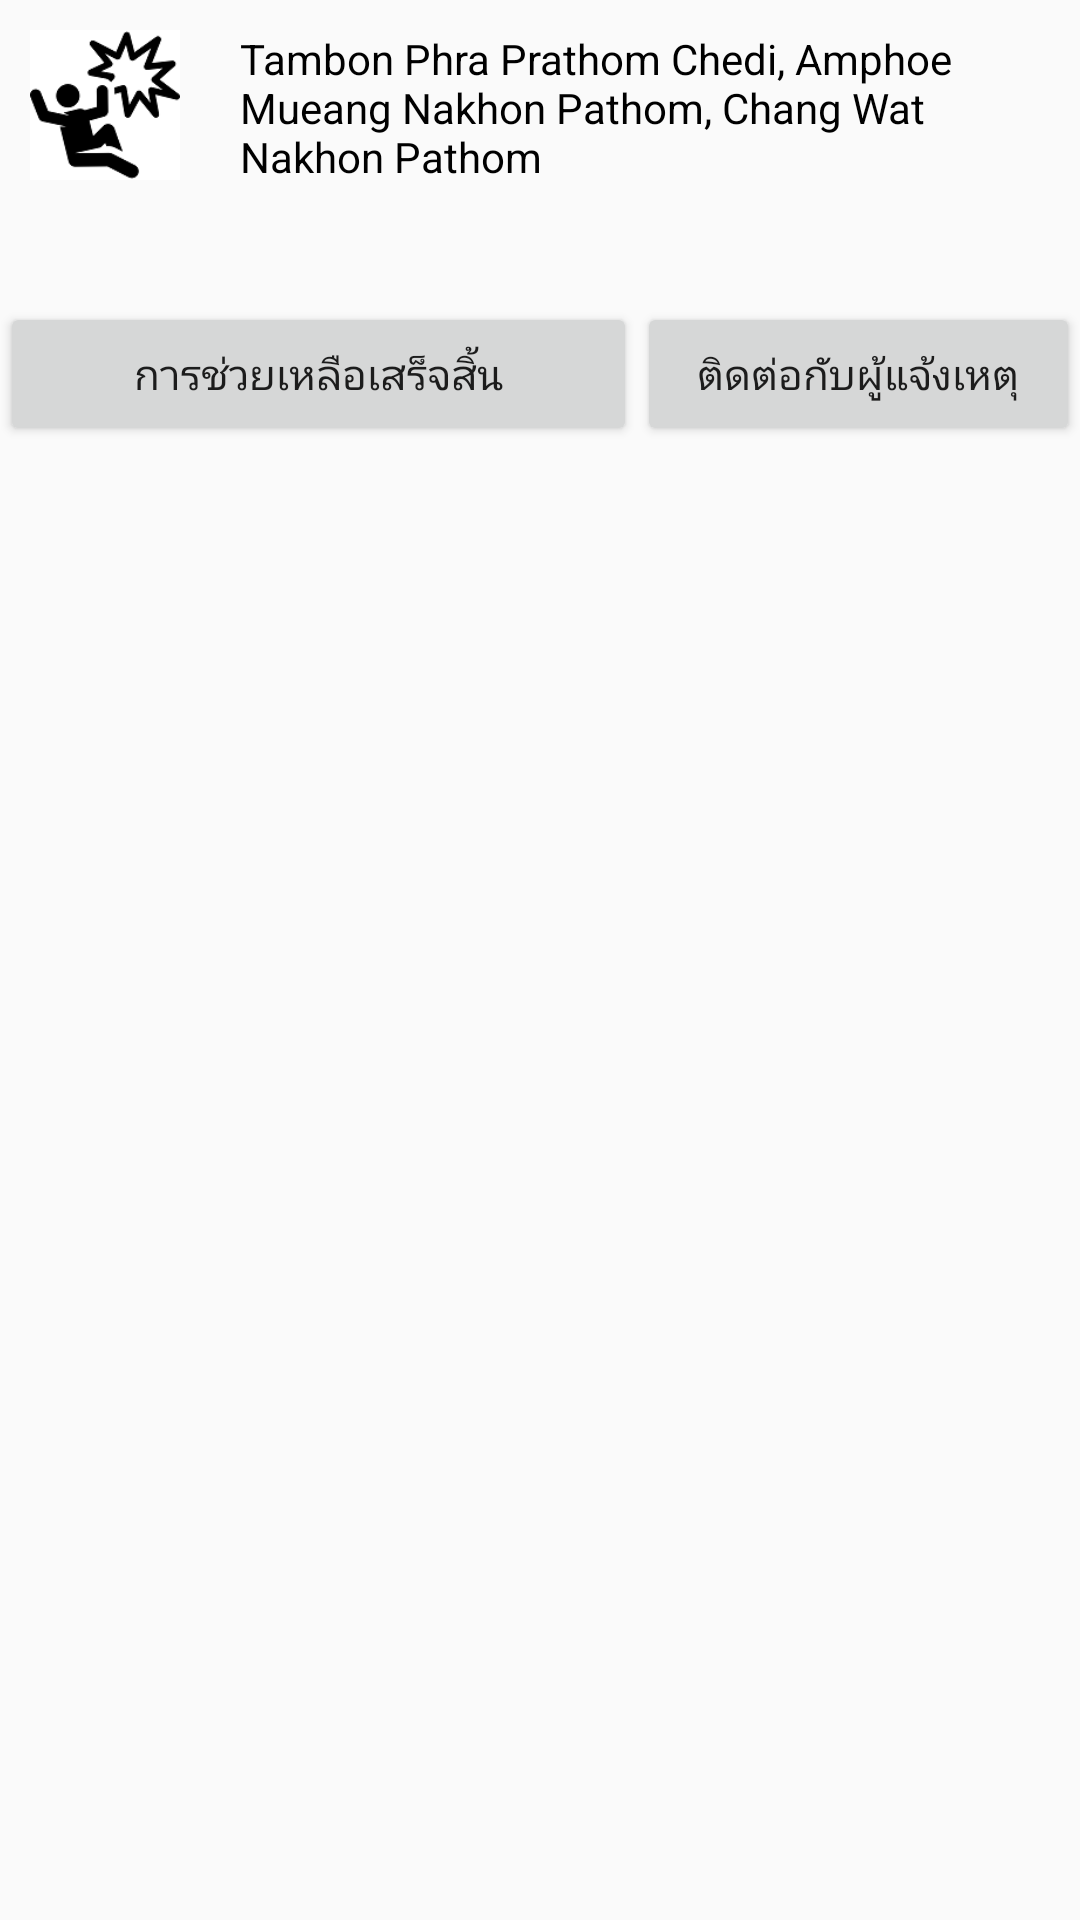

Icons on this 1080x1920 Android screen, each with the point to tap as point (x, y):
acctype other: point (105, 105)
